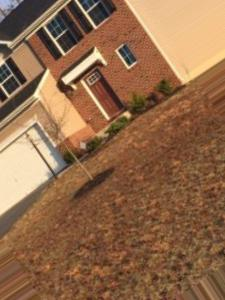patch: (131, 130, 203, 268), (32, 221, 148, 281)
